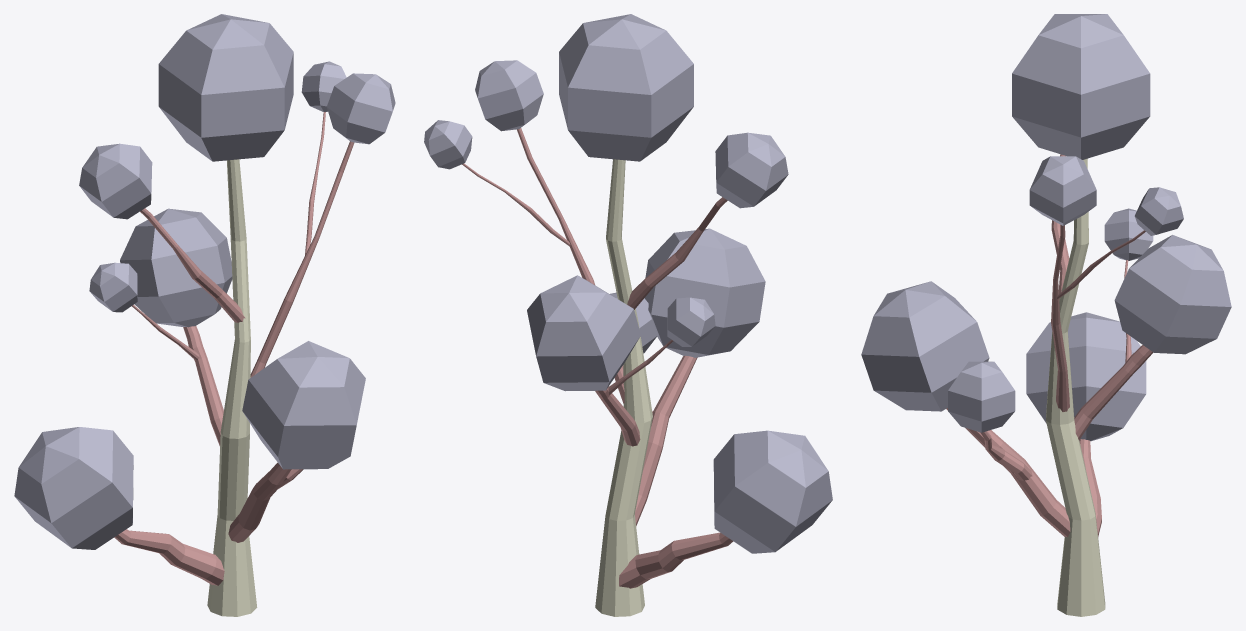
Rendered from Pollop_Tree.fbx.
The picture shows the model from 3 angles, left to right: view 1: azimuth 30°, elevation 25°; view 2: azimuth 150°, elevation 25°; view 3: azimuth 270°, elevation 25°; orthographic projection.
Parts seen in each view (by area): view 1: polySurface1; view 2: polySurface1; view 3: polySurface1.
Boxes of the visible parts, x1=… form: polySurface1: x1=14, y1=14, x2=395, y2=616; polySurface1: x1=424, y1=14, x2=832, y2=616; polySurface1: x1=861, y1=14, x2=1231, y2=616.
Bounding box in the file's own units: 10.6 × 16.75 × 9.54.
